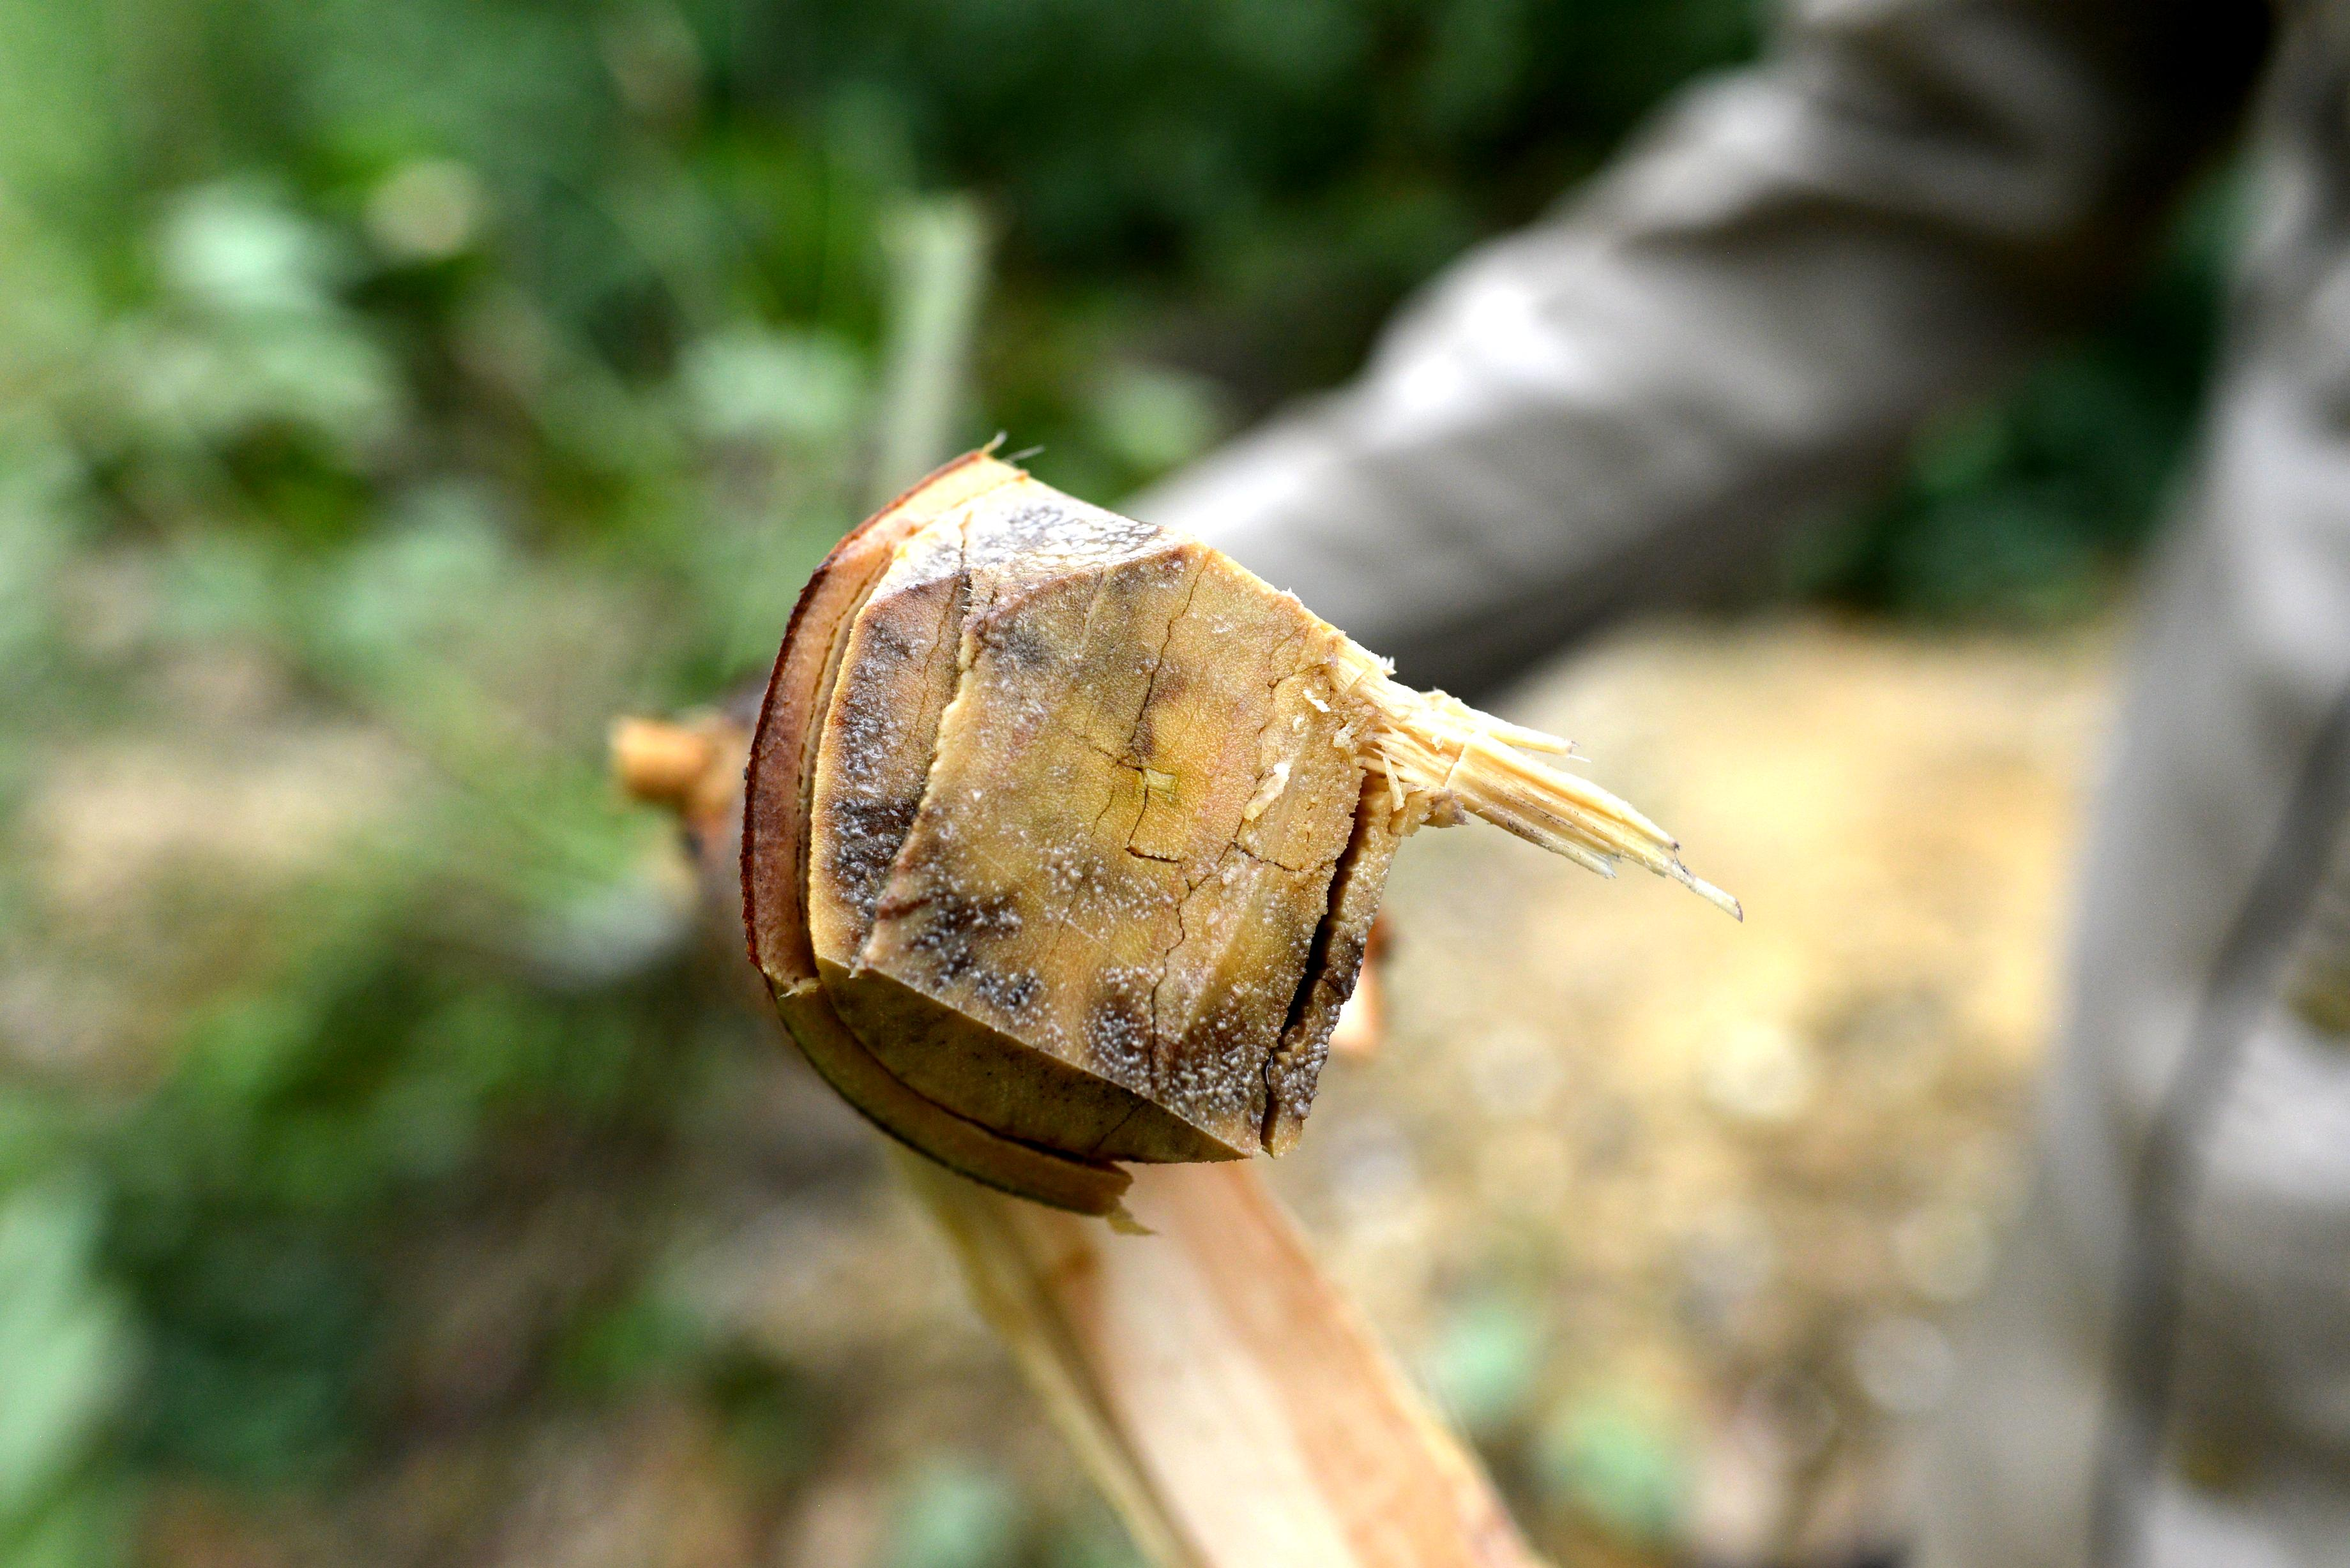Ralstonia: (1076, 808, 1286, 1125), (908, 787, 1069, 1067), (828, 607, 898, 966), (915, 500, 1190, 583), (1307, 833, 1395, 1080), (950, 600, 1097, 742)
